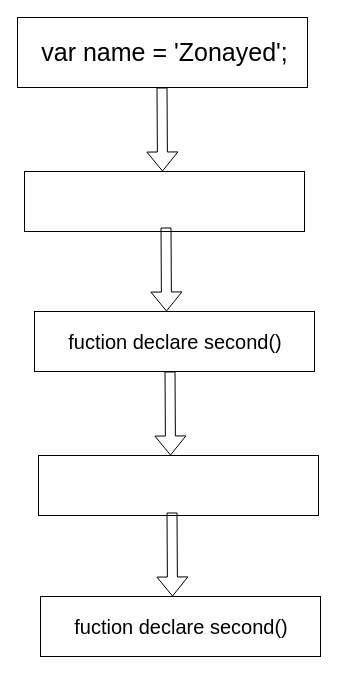
This 338x674 diagram has some shape labels left out. Here are the shapes that lost their labels. From the top down, the centre of each, then its label:
At point (164, 201): "fuction declare first()".
At point (178, 485): "fuction declare third()".
